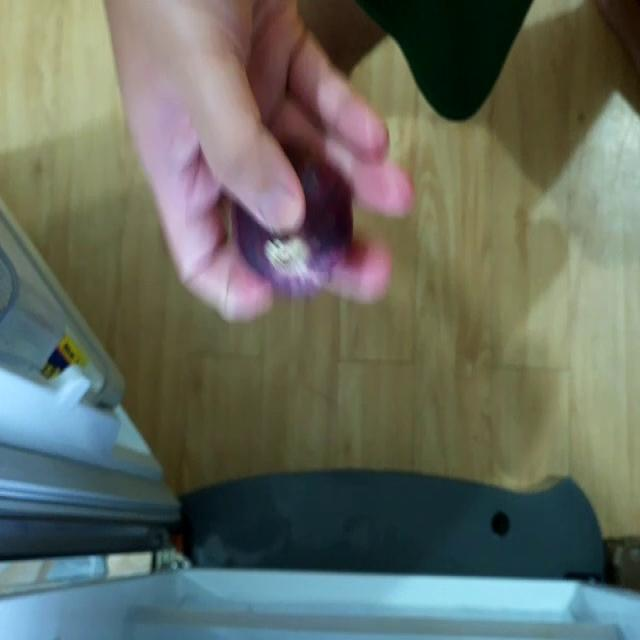onion: (230, 148, 358, 294)
